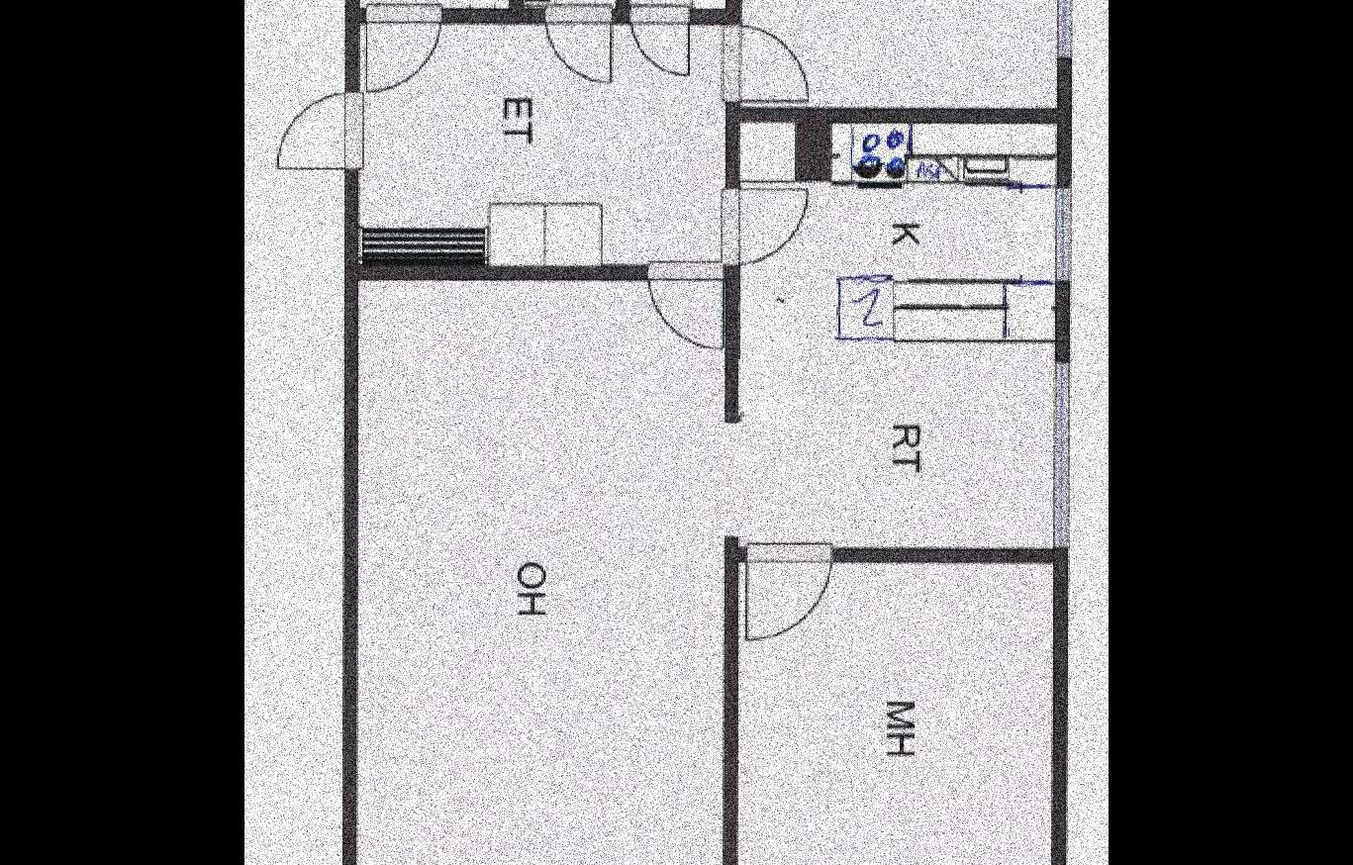door: (741, 540, 830, 651), (272, 90, 365, 180), (720, 184, 809, 270), (359, 0, 440, 94), (642, 260, 723, 352), (724, 24, 811, 103), (539, 2, 616, 85), (633, 3, 690, 82)
window: (1052, 362, 1070, 543), (1053, 189, 1070, 281), (1053, 0, 1076, 57)
zone: (350, 278, 728, 865), (738, 121, 1057, 547), (739, 559, 1056, 865), (363, 21, 722, 264), (743, 0, 1060, 107)
